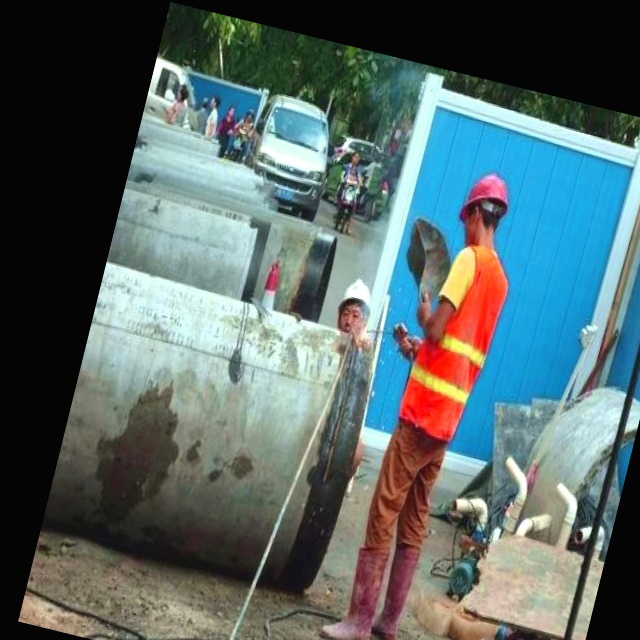Con_Chaleco: (396, 239, 516, 444)
